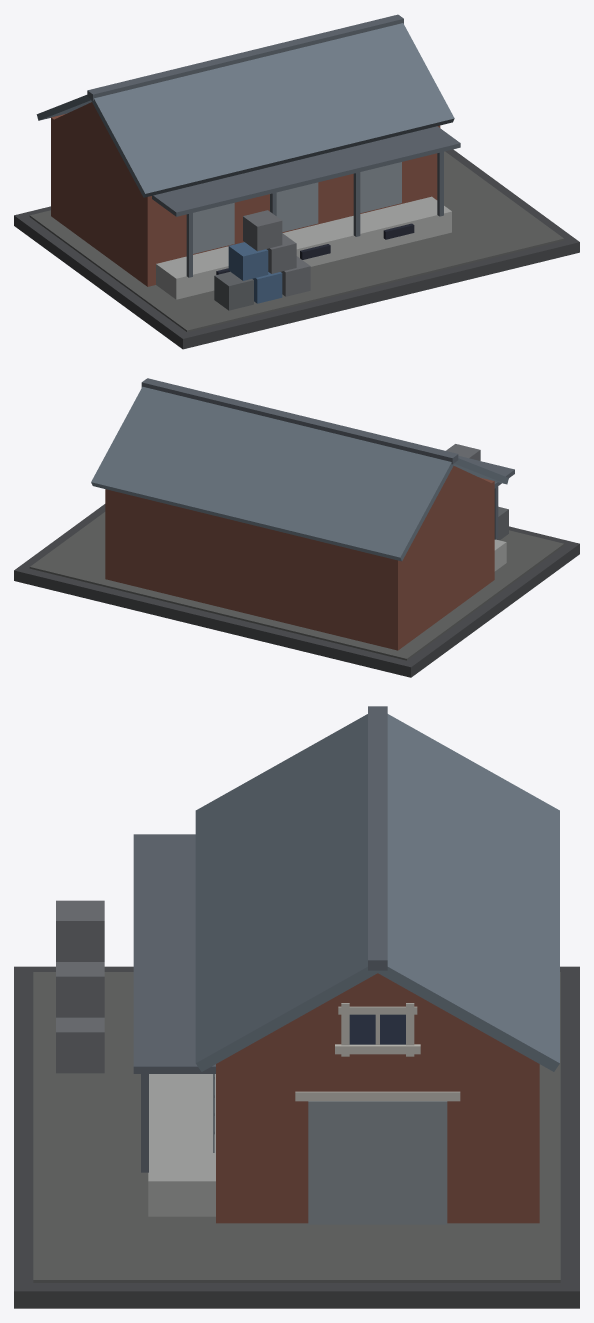
Rendered from warehouse_lvl2.glb.
3 renders of one model, top to bottom at view 1: azimuth 30°, elevation 25°; view 2: azimuth 150°, elevation 25°; view 3: azimuth 270°, elevation 25°, orthographic. The views are drawn at different scales.
Visible parts, largest first — view 1: warehouse; view 2: warehouse; view 3: warehouse.
Part boxes in pixels (x1,y1,x2,y2): warehouse: (14,14,579,349); warehouse: (14,378,579,677); warehouse: (14,706,579,1308).
Bounding box in the file's own units: 0.8636 × 0.3609 × 0.6364.
